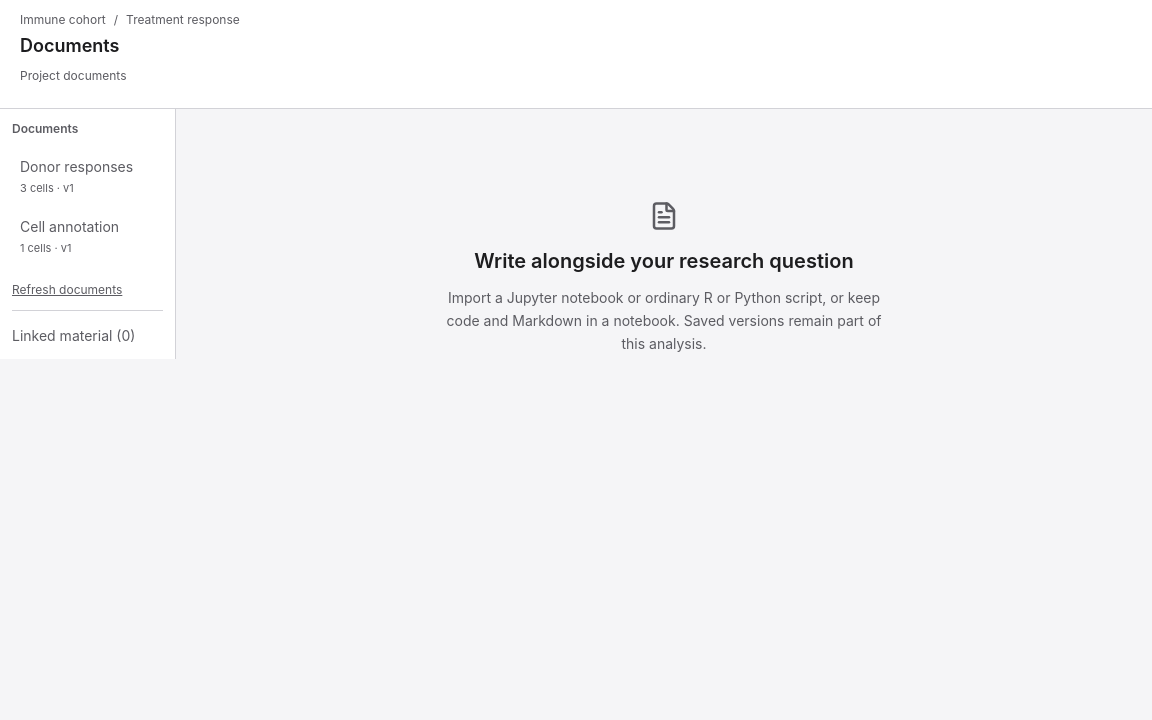
Test: notebook workspace editing and review flows › protects a viewer or archived notebook while allowing genuine source inspection
Click the button "Donor responses 3 cells · v1" at (88, 177), box [12,149,163,205]
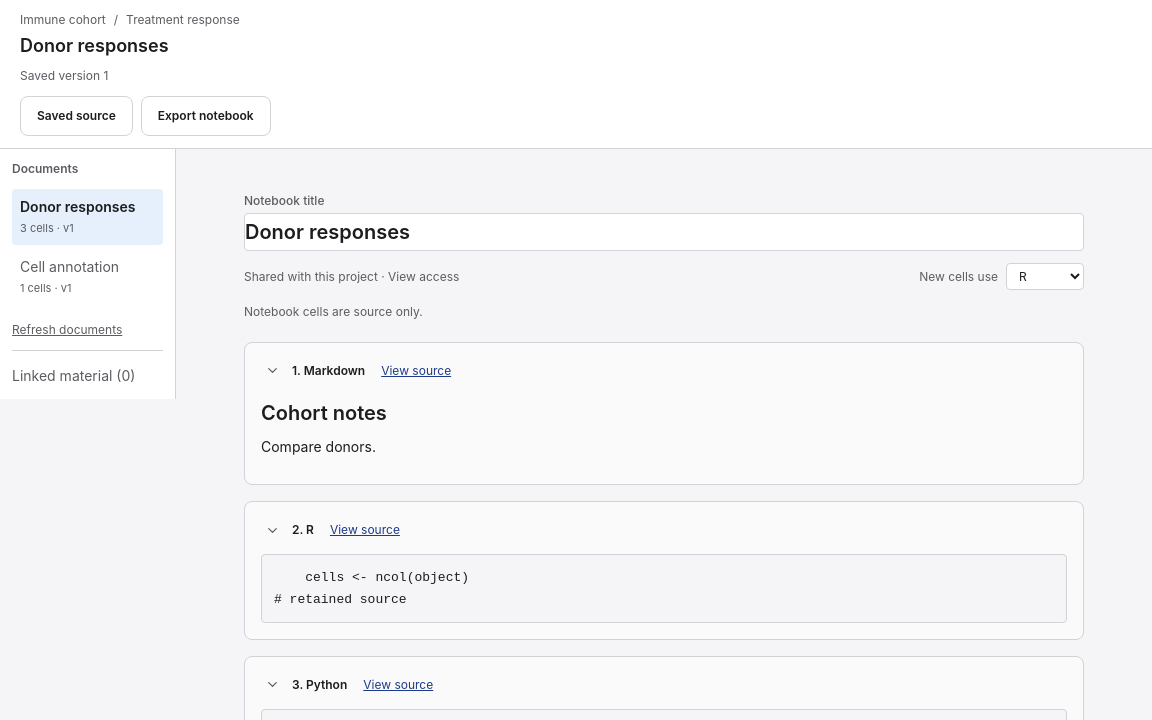
Check: the field labelled "Notebook title" holds "Donor responses", box [244,213,1084,251]
Click the 2nd button "View source" at (365, 530), box [322,518,408,542]
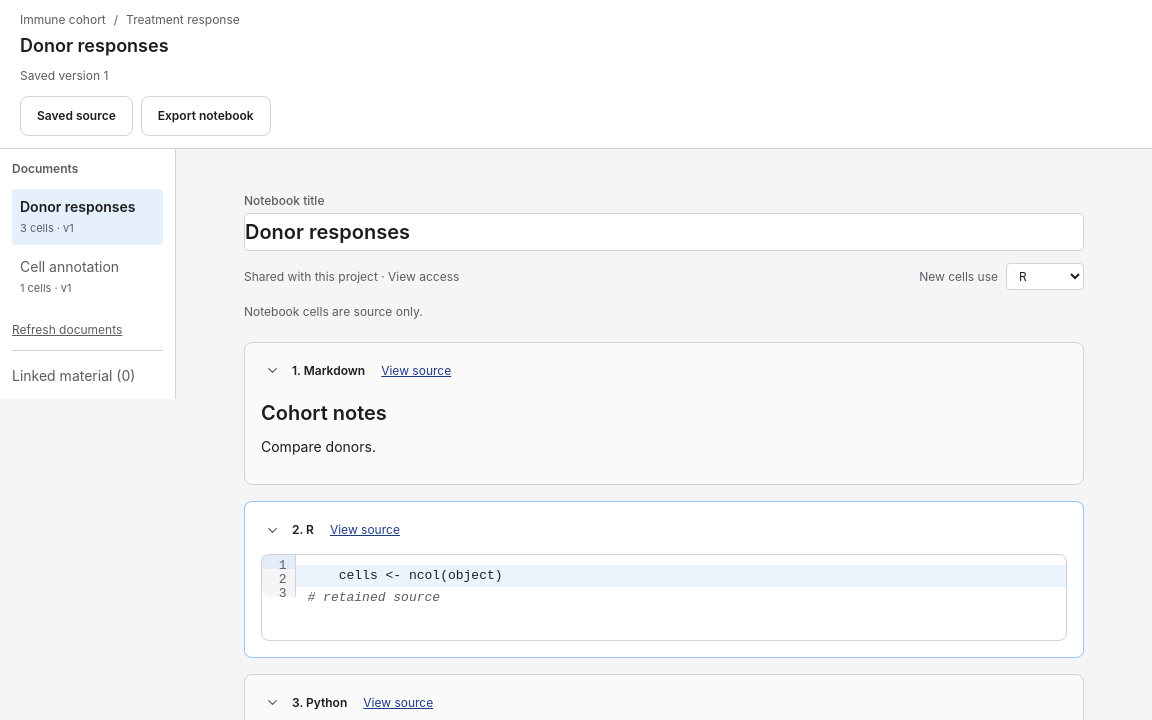
Click the button "View source" next to "Markdown" at (416, 370), box [373,358,459,382]
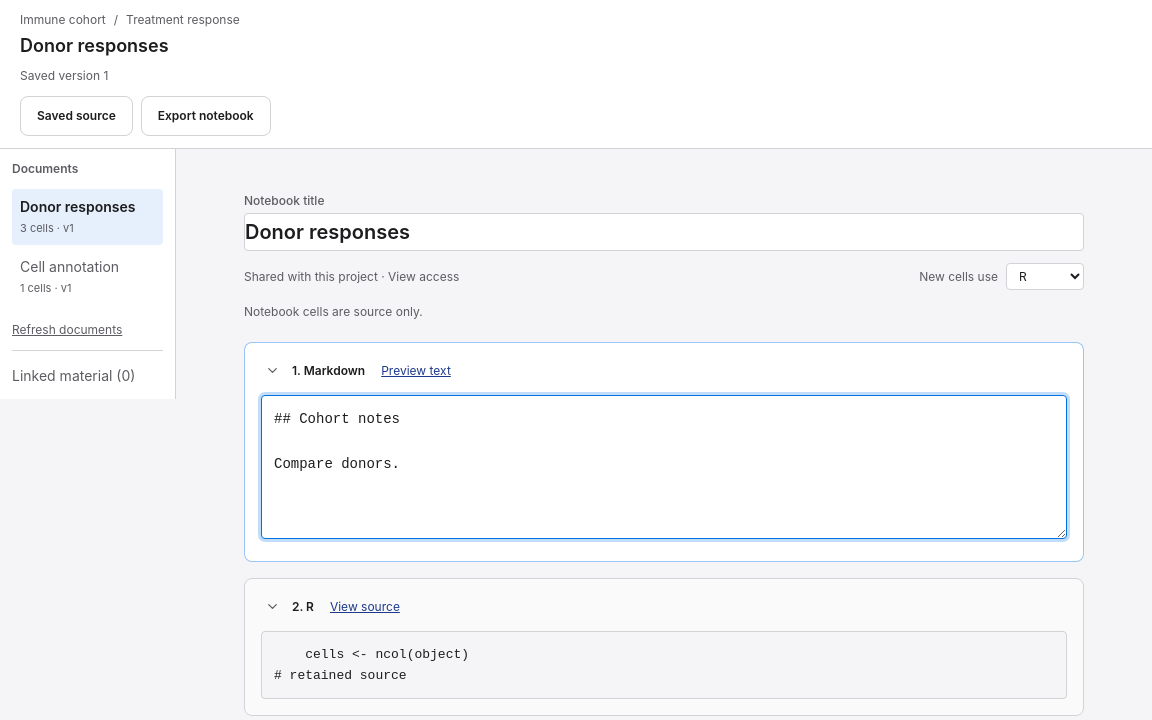
Click the button named "Hide Markdown cell 1 source" at (272, 370), box [261,359,284,382]
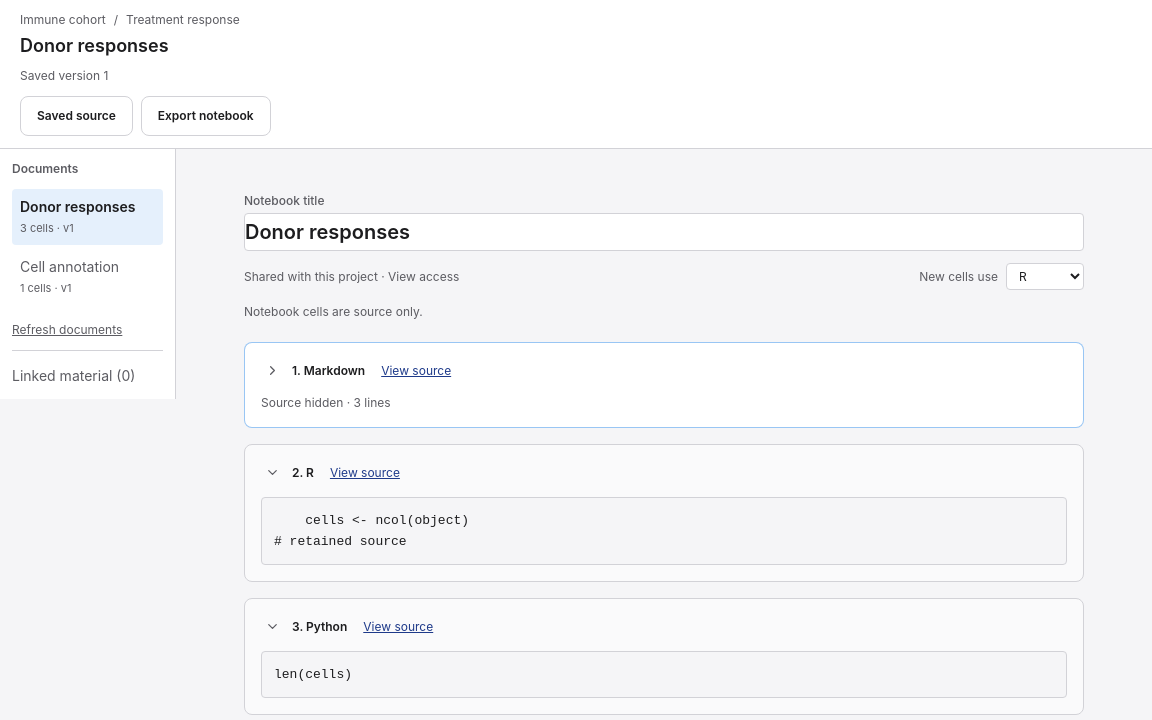
Check: the button named "Show Markdown cell 1 source" is collapsed, box [261,359,284,382]
